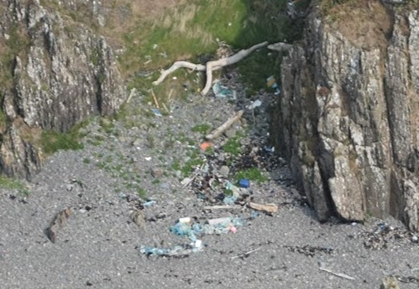net: (144, 216, 239, 258)
straight_bar: (159, 43, 262, 97), (42, 204, 77, 249), (207, 107, 247, 145), (320, 264, 357, 282)
together_barrel: (192, 80, 286, 214)
